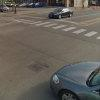Crosswalk: (16, 12, 95, 48)
